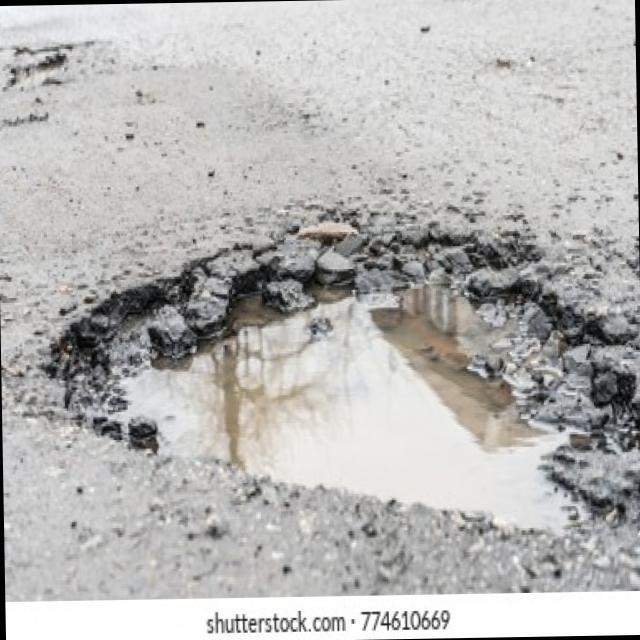Pothole: (43, 216, 640, 556)
